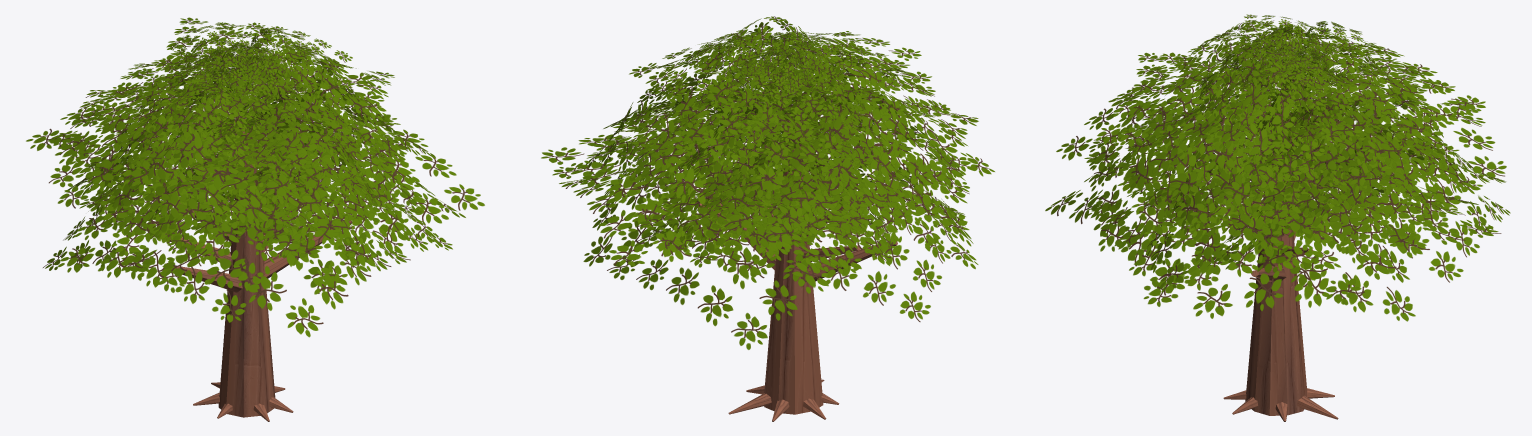
3 views of the same model, side by side, from view 1: azimuth 30°, elevation 25°; view 2: azimuth 150°, elevation 25°; view 3: azimuth 270°, elevation 25° (orthographic). The views are drawn at different scales.
Parts seen in each view (by area): view 1: Trunk; view 2: Trunk; view 3: Trunk.
Part boxes in pixels (x1,y1,x2,y2): Trunk: (26, 17, 484, 421); Trunk: (541, 16, 994, 421); Trunk: (1045, 14, 1510, 421).
Size of the model in its own units: 24.86 by 21.39 by 24.96.
Materials: 2 (2 with a texture image).
